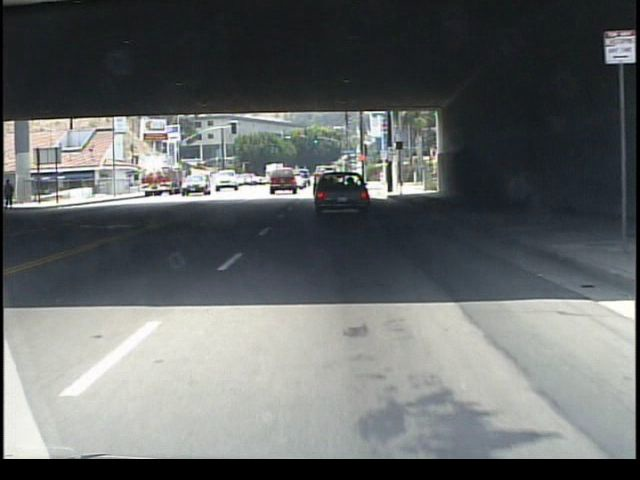person: (5, 179, 17, 210)
